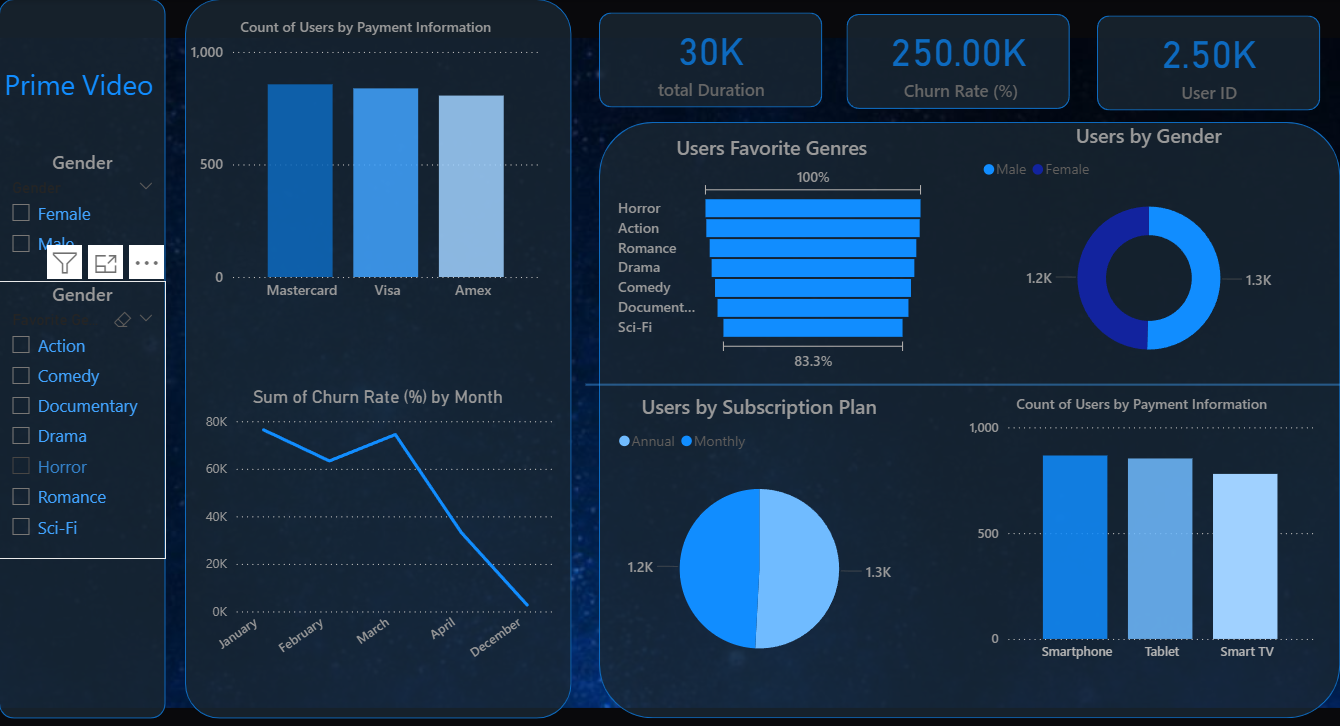

This screenshot's page, from the dashboard's own definition file:
{"tool":"powerbi","page":{"name":"Page 1","canvas":[1280,720],"ordinal":0},"visuals":[{"type":"shape","box":[809.6,14.3,213.1,90.7],"z":0},{"type":"card","fields":{"Values":["Sum(amazon_prime_users.Churn Rate (%))"]},"box":[822.3,15.9,187.7,85.9],"z":1000},{"type":"shape","box":[572.6,12.7,213.1,90.7],"z":2000},{"type":"card","fields":{"Values":["Sum(amazon_prime_users.Duration)"]},"box":[585.3,14.3,187.7,85.9],"z":3000},{"type":"shape","box":[1048.2,15.9,213.1,90.7],"z":4000},{"type":"card","fields":{"Values":["CountNonNull(amazon_prime_users.User ID)"]},"box":[1060.9,17.5,187.7,85.9],"z":5000},{"type":"shape","box":[572.6,117.7,707.8,569.4],"z":6000},{"type":"pieChart","fields":{"Category":["amazon_prime_users.Subscription Plan"],"Y":["CountNonNull(amazon_prime_users.User ID)"]},"box":[585.3,377,279.9,279.9],"z":7000},{"type":"donutChart","fields":{"Y":["CountNonNull(amazon_prime_users.User ID)"],"Category":["amazon_prime_users.Gender"]},"box":[933.7,117.7,327.7,243.4],"z":8000},{"type":"funnel","title":"Users Favorite Genres","fields":{"Category":["amazon_prime_users.Favorite Genres"],"Y":["CountNonNull(amazon_prime_users.User ID)"]},"box":[585.3,128.8,303.8,230.6],"z":9000},{"type":"shape","box":[559.9,359.5,720.5,17.5],"z":10000},{"type":"shape","box":[178.1,0,369,687.1],"z":11000},{"type":"columnChart","title":"Count of Users by Payment Information","fields":{"Category":["amazon_prime_users.Payment Information"],"Y":["CountNonNull(amazon_prime_users.User ID)"]},"box":[178.1,17.5,345.2,279.9],"z":12000},{"type":"clusteredColumnChart","title":"Count of Users by Payment Information","fields":{"Category":["amazon_prime_users.Devices Used"],"Y":["CountNonNull(amazon_prime_users.User ID)"]},"box":[921,377,340.4,264],"z":13000},{"type":"lineChart","fields":{"Category":["amazon_prime_users.mEnddate.Variation.Date Hierarchy.Month"],"Y":["Sum(amazon_prime_users.Churn Rate (%))"]},"box":[189.3,369,345.2,279.9],"z":14000},{"type":"shape","box":[0,0,159.1,687.1],"z":15000},{"type":"textbox","box":[0,57.3,178.1,85.9],"z":16000},{"type":"slicer","title":"Gender","fields":{"Values":["amazon_prime_users.Gender"]},"box":[0,143.2,159.1,140],"z":17000},{"type":"slicer","title":"Gender","fields":{"Values":["amazon_prime_users.Favorite Genres"]},"box":[0,268.8,159.1,265.6],"z":18000}]}

Visuals, with their boxes on the page's 1280x720 design canvas (x1, y1, x2, y2). These are canvas units, not pixel positions in the 1340x726 screenshot, which may show the page scaled, cropped or inside an application window:
shape: region(810, 14, 1023, 105)
card - Sum(amazon_prime_users.Churn Rate (%)): region(822, 16, 1010, 102)
shape: region(573, 13, 786, 103)
card - Sum(amazon_prime_users.Duration): region(585, 14, 773, 100)
shape: region(1048, 16, 1261, 107)
card - CountNonNull(amazon_prime_users.User ID): region(1061, 18, 1249, 103)
shape: region(573, 118, 1280, 687)
pieChart - amazon_prime_users.Subscription Plan x CountNonNull(amazon_prime_users.User ID): region(585, 377, 865, 657)
donutChart - CountNonNull(amazon_prime_users.User ID) x amazon_prime_users.Gender: region(934, 118, 1261, 361)
"Users Favorite Genres" funnel: region(585, 129, 889, 359)
shape: region(560, 360, 1280, 377)
shape: region(178, 0, 547, 687)
"Count of Users by Payment Information" columnChart: region(178, 18, 523, 297)
"Count of Users by Payment Information" clusteredColumnChart: region(921, 377, 1261, 641)
lineChart - amazon_prime_users.mEnddate.Variation.Date Hierarchy.Month x Sum(amazon_prime_users.Churn Rate (%)): region(189, 369, 534, 649)
shape: region(0, 0, 159, 687)
textbox: region(0, 57, 178, 143)
"Gender" slicer: region(0, 143, 159, 283)
"Gender" slicer: region(0, 269, 159, 534)
